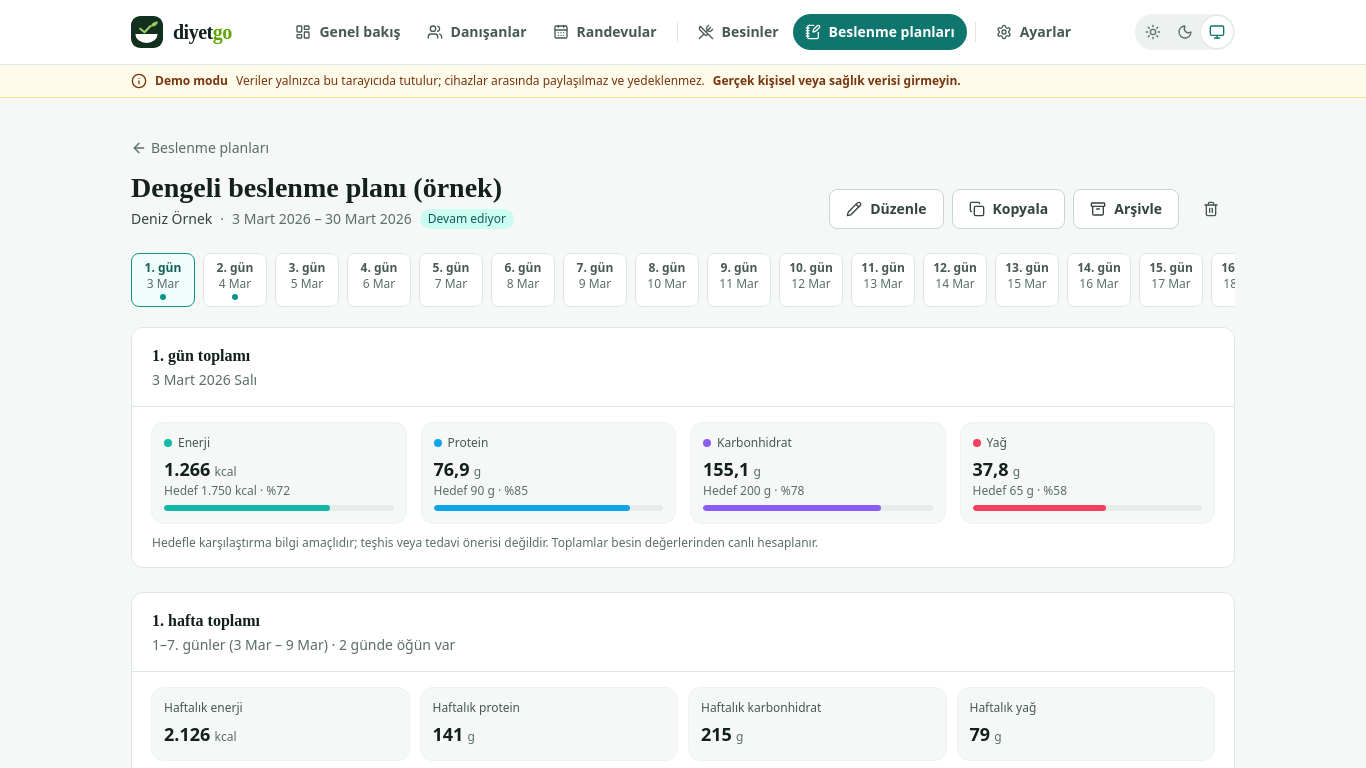
Test: Plan görüntüleme › günler arasında geçiş yapar; boş günde boş durum gösterir
The width and height of the screenshot is (1366, 768).
Expected: the heading "Dengeli beslenme planı (örnek)" is shown, top-left (131, 170), bottom-right (514, 205)
Click the button "2. gün 4 Mar" at point(235, 280), box top-left (203, 253), bottom-right (267, 307)
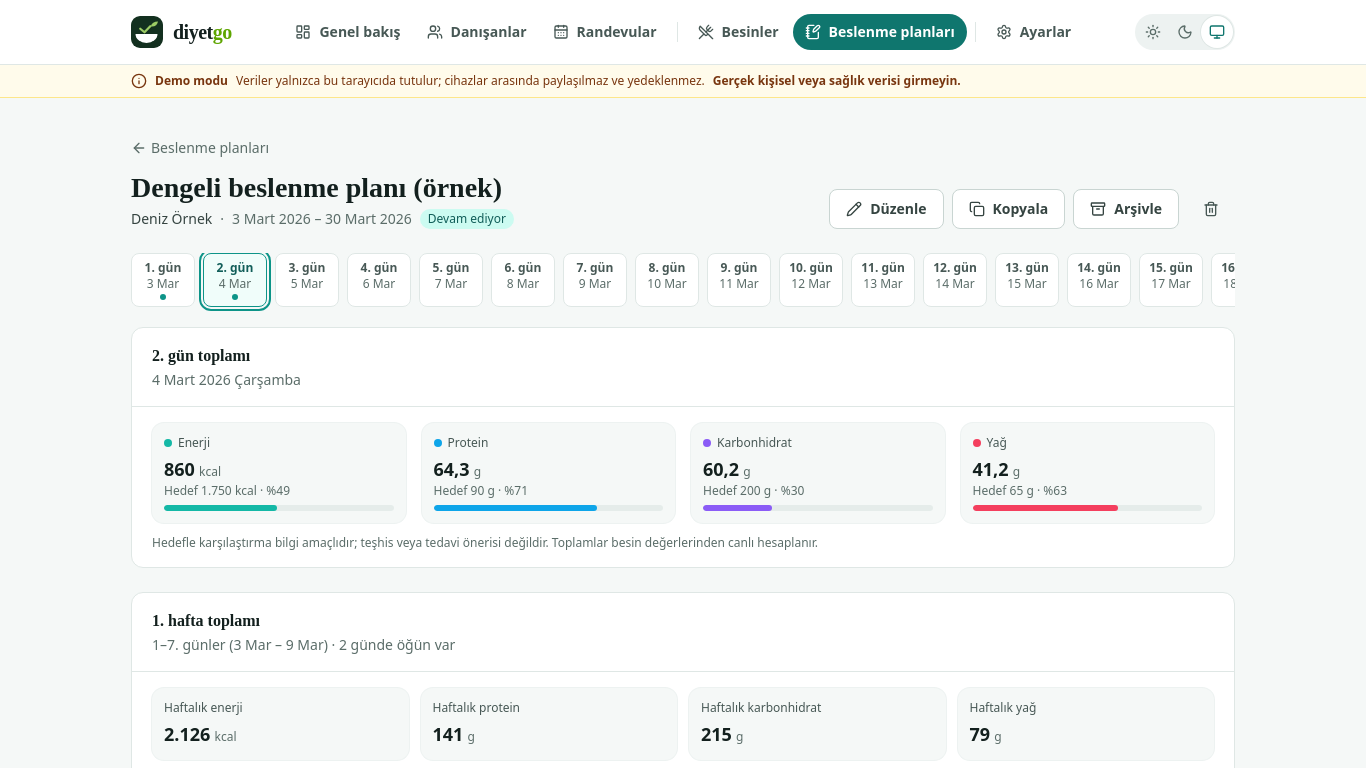
Click the button "3. gün 5 Mar" at point(307, 280), box top-left (275, 253), bottom-right (339, 307)
(page scrolled)
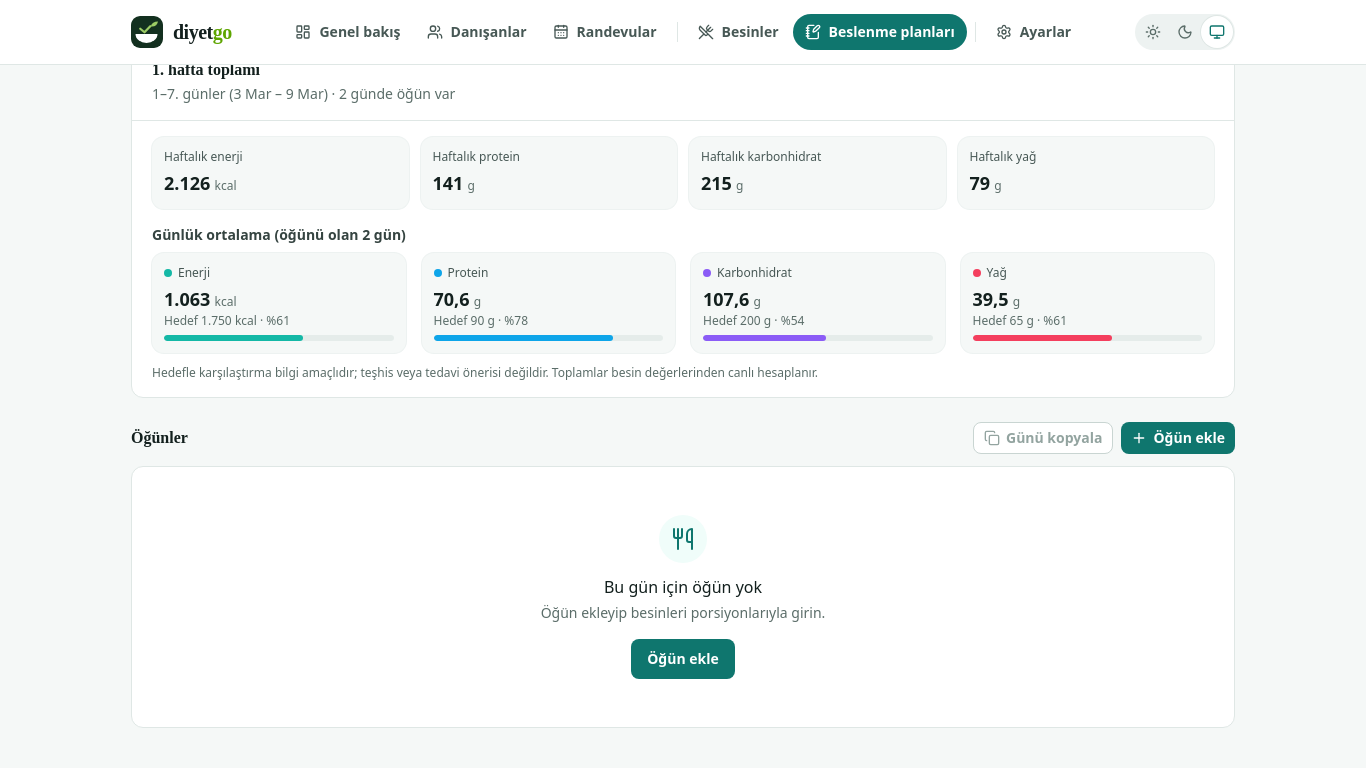
Expected: the text "Bu gün için öğün yok" is shown, top-left (604, 575), bottom-right (762, 599)
